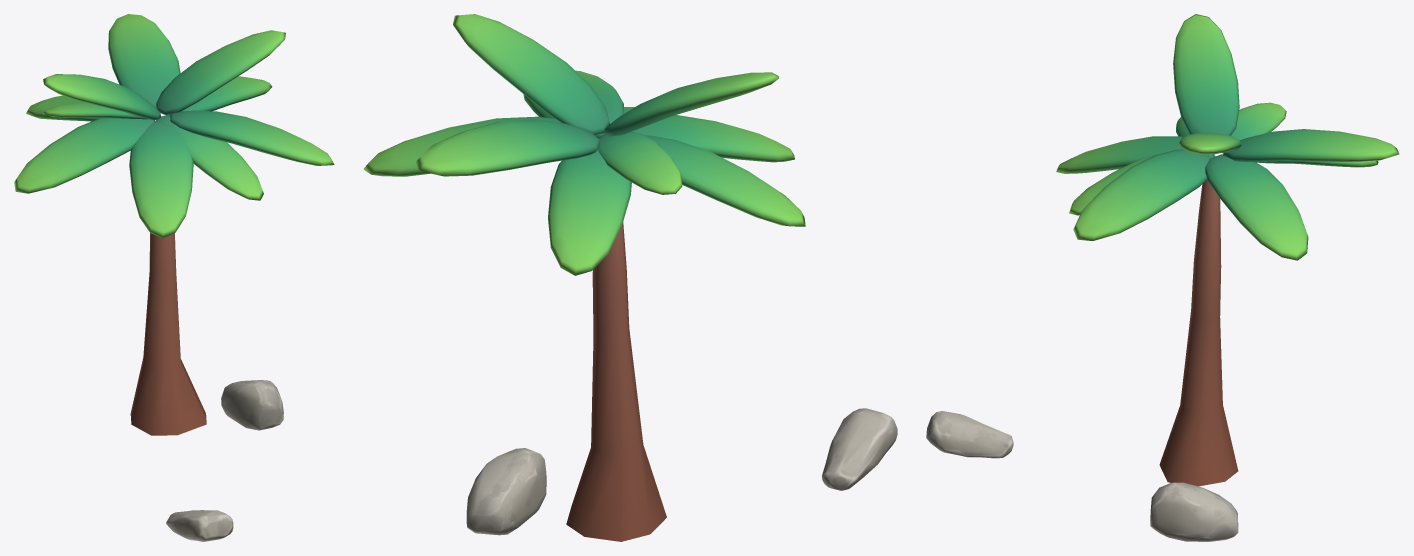
Rendered from Palm_01.fbx.
3 views of the same model, side by side, from view 1: azimuth 30°, elevation 25°; view 2: azimuth 150°, elevation 25°; view 3: azimuth 270°, elevation 25° (orthographic). The views are drawn at different scales.
Visible parts, largest first — view 1: Palm_01; view 2: Palm_01; view 3: Palm_01.
Boxes of the visible parts, x1,y1,x2,y2 form: Palm_01: [14, 14, 334, 541]; Palm_01: [363, 14, 897, 541]; Palm_01: [926, 14, 1399, 541].
Size of the model in its own units: 95.68 by 122 by 125.
